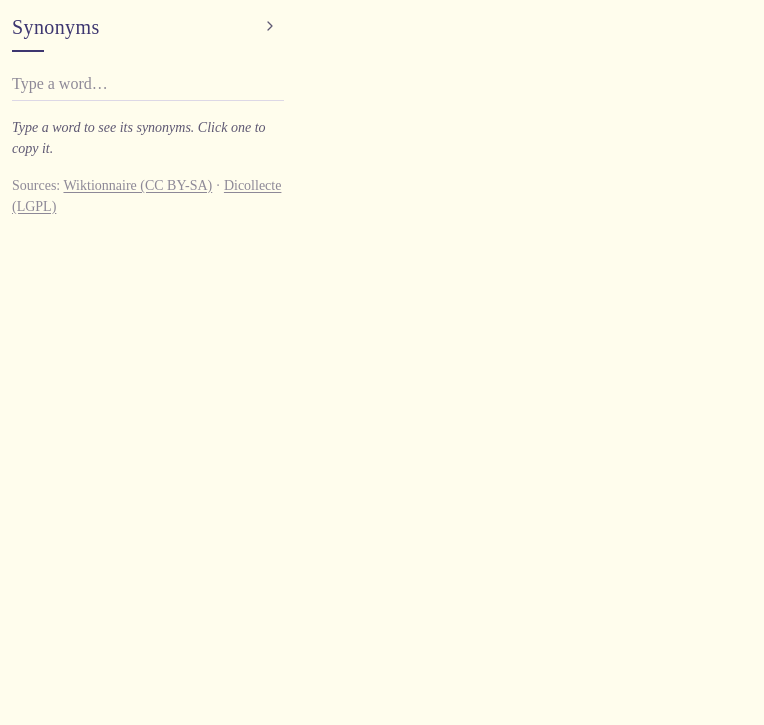
it: SynonymsPanel › shows an error toast when copying fails
Type "rapides" into the search field. click: (148,84)
box: [12,68,284,100]
Wait 250 ms
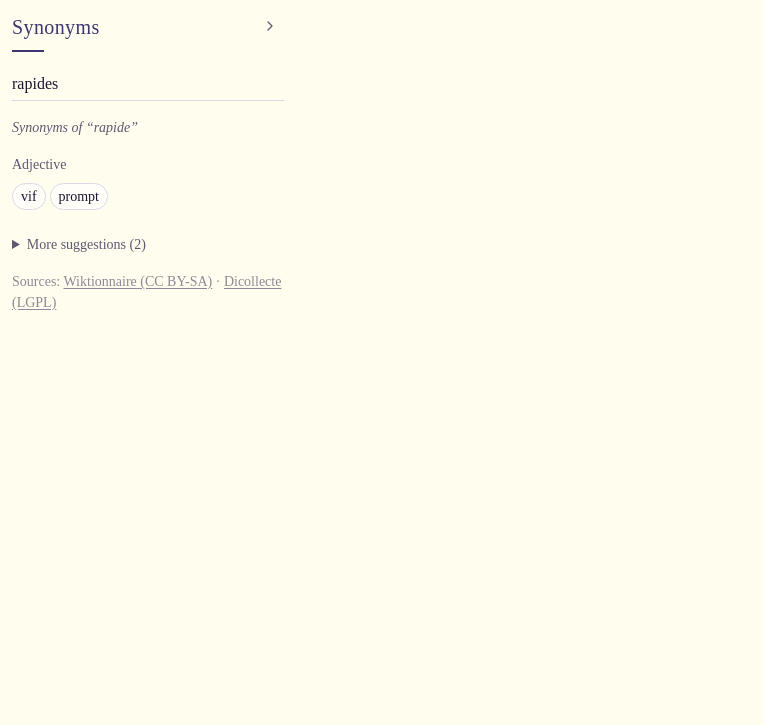
Click the button "vif". click: (29,196)
box: [12,182,46,210]
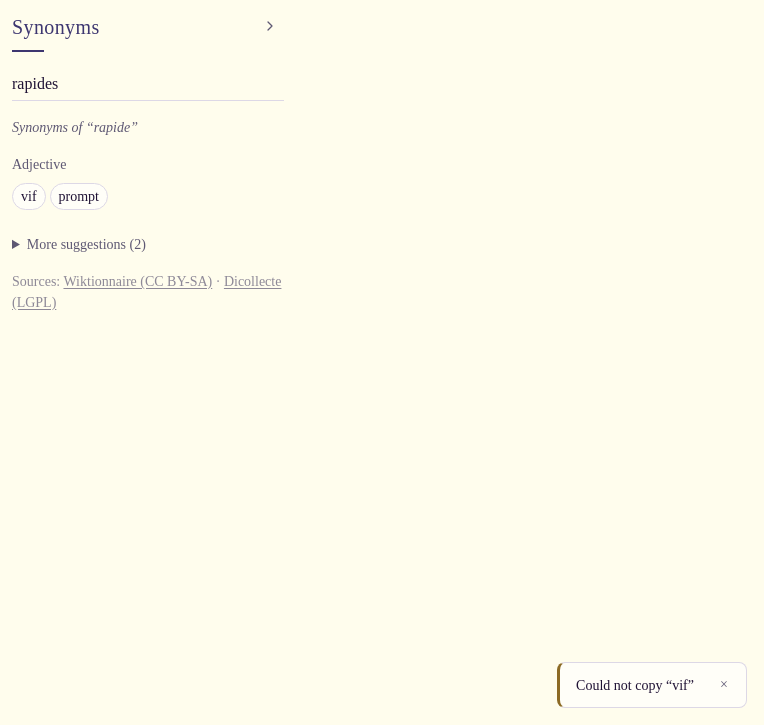
Result: the message shows "Could not copy “vif”" at [576,678,694,692]
